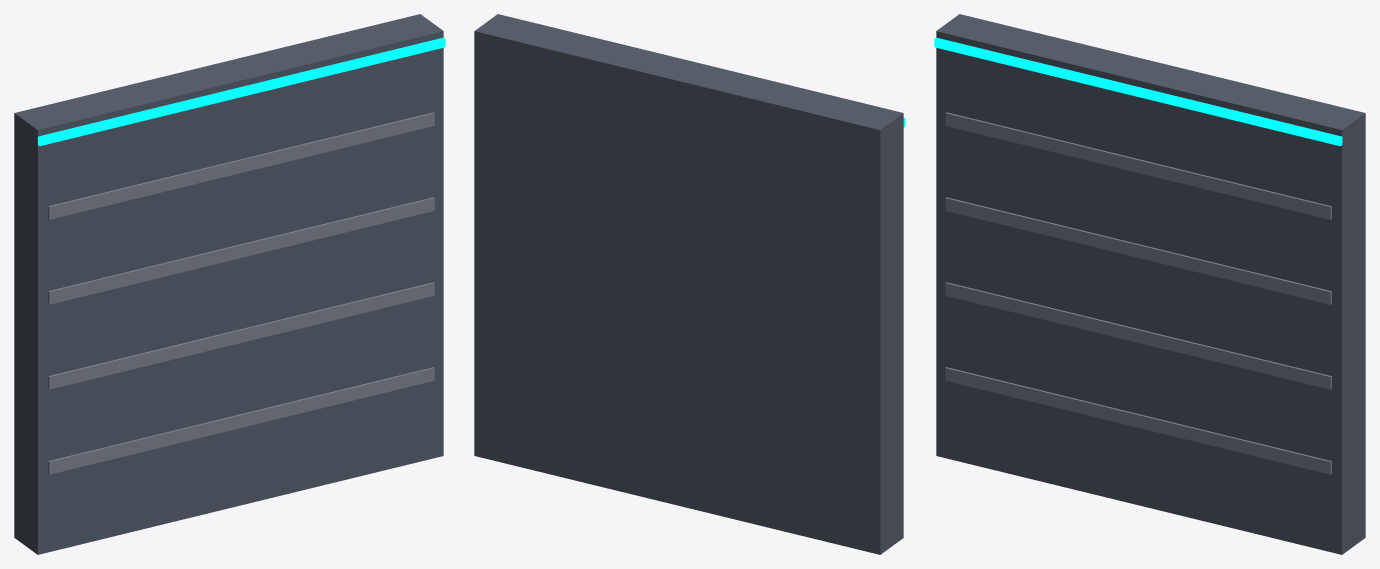
Rendered from CORP_MOD_Wall_Panel_4x4.glb.
The picture shows the model from 3 angles, left to right: view 1: azimuth 30°, elevation 25°; view 2: azimuth 150°, elevation 25°; view 3: azimuth 330°, elevation 25°; orthographic projection.
Visible parts, largest first — view 1: CORP_MOD_Wall_Panel_4x4; view 2: CORP_MOD_Wall_Panel_4x4; view 3: CORP_MOD_Wall_Panel_4x4.
Boxes of the visible parts, box(x1,y1,x2,y2) form: CORP_MOD_Wall_Panel_4x4: box(14, 14, 445, 554); CORP_MOD_Wall_Panel_4x4: box(474, 14, 905, 554); CORP_MOD_Wall_Panel_4x4: box(934, 14, 1365, 554).
Bounding box in the file's own units: 4 × 4 × 0.43.
